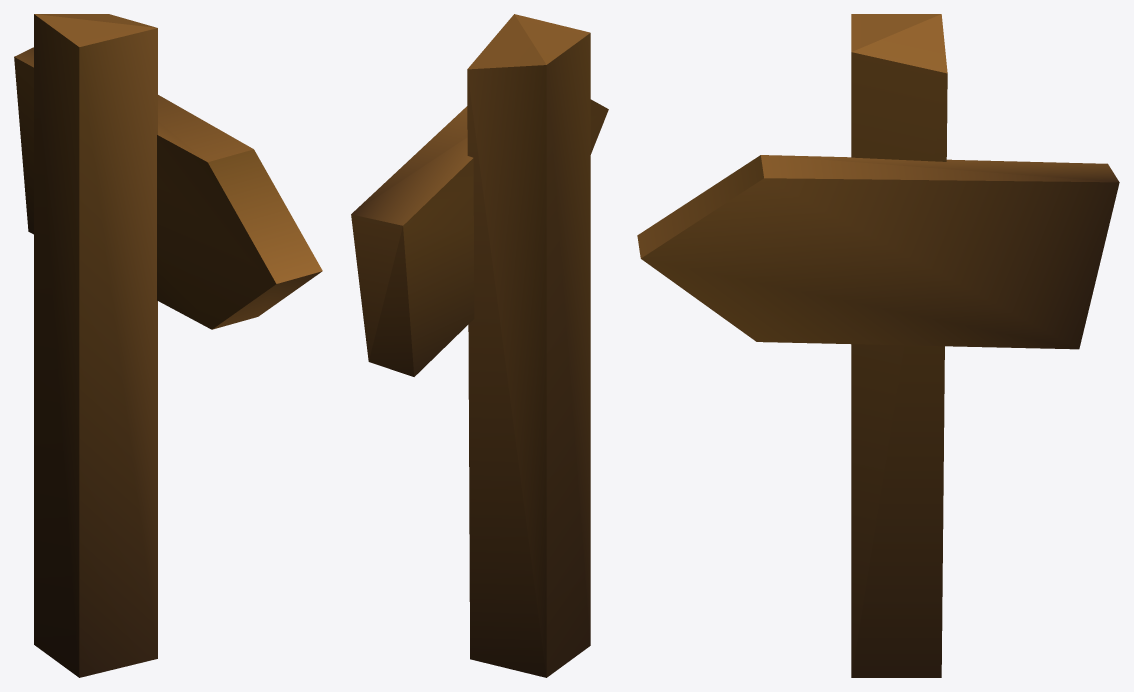
File: Mixed_Sign_01.fbx
3 renders of one model, left to right at view 1: azimuth 30°, elevation 25°; view 2: azimuth 150°, elevation 25°; view 3: azimuth 270°, elevation 25°, orthographic. The views are drawn at different scales.
Visible parts, largest first — view 1: Sign_01.001; view 2: Sign_01.001; view 3: Sign_01.001.
Part boxes in pixels (x1,y1,x2,y2): Sign_01.001: (14,14,322,677); Sign_01.001: (351,14,608,677); Sign_01.001: (637,14,1119,677).
Size of the model in its own units: 47.28 by 208 by 145.
